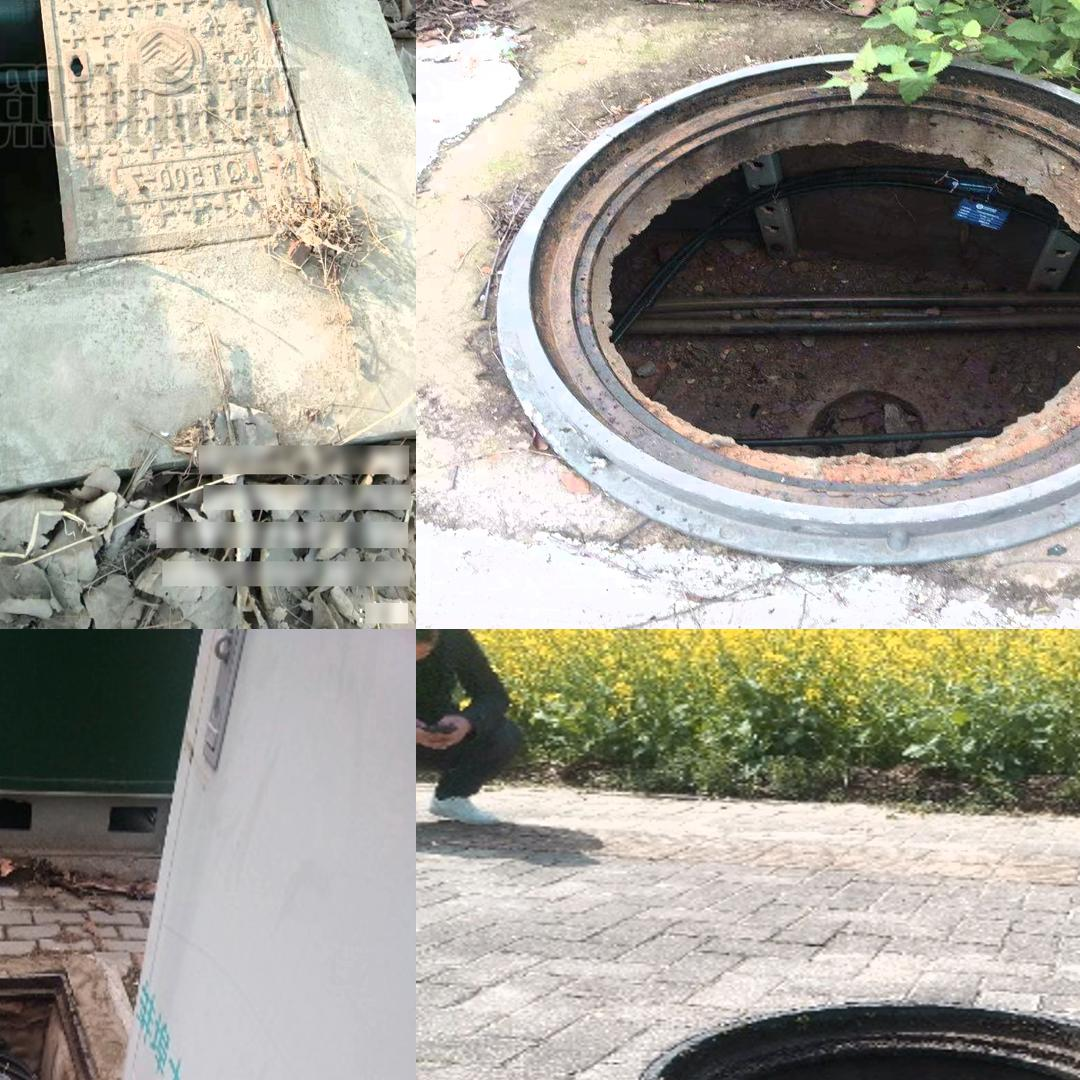lose: (505, 30, 1080, 556), (0, 0, 335, 435), (633, 1006, 1080, 1080), (0, 969, 100, 1080)
